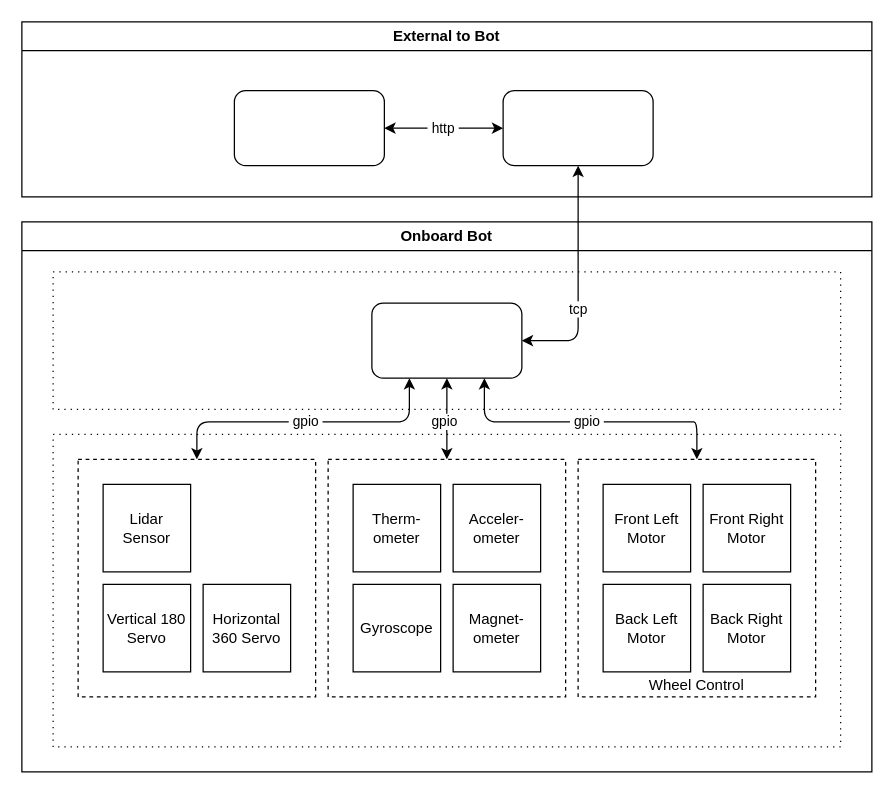
Image size: 894x794. Some labels were removed from this diagram. The shapes that lost their labels are listed below. From the top down, each one's box as (x1, y1, x2, y2) in pixels, then its label:
(233, 89, 384, 166): web ui
(502, 89, 653, 166): autonoma
(371, 302, 522, 378): hal.py
(52, 271, 841, 409): Software
(77, 458, 316, 697): Lidar Control
(327, 458, 566, 697): Orientation Sensors
(52, 433, 841, 747): Hardware
